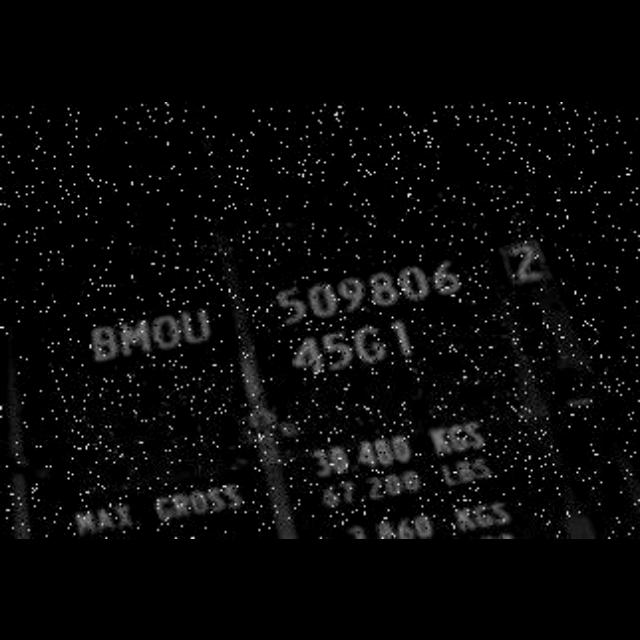0: (306, 276, 338, 324), (402, 261, 431, 305), (374, 426, 394, 472), (384, 466, 406, 498), (392, 432, 410, 468), (412, 510, 432, 538), (402, 464, 418, 494)
1: (388, 317, 422, 365)
2: (510, 238, 544, 290), (366, 471, 384, 504)
3: (302, 446, 332, 478)
4: (290, 332, 324, 382), (356, 432, 376, 474)
5: (271, 278, 307, 324), (320, 328, 352, 374)
6: (431, 255, 465, 299), (400, 512, 414, 538)
8: (368, 266, 400, 310), (330, 442, 352, 478)
9: (339, 272, 368, 324)
a: (94, 496, 116, 534)
b: (84, 320, 120, 364), (456, 453, 476, 482)
c: (150, 484, 176, 530)
g: (349, 321, 386, 369), (445, 414, 471, 456), (474, 496, 490, 530)
k: (424, 424, 454, 464), (453, 500, 475, 536)
l: (437, 464, 463, 496)
m: (117, 315, 155, 361), (74, 497, 96, 538)
o: (156, 313, 184, 352), (190, 484, 207, 518)
r: (174, 484, 193, 524)
s: (206, 475, 228, 515), (472, 448, 492, 492), (464, 414, 484, 451), (227, 476, 247, 510), (492, 494, 512, 528)
u: (185, 303, 213, 345)
x: (114, 498, 138, 532)
